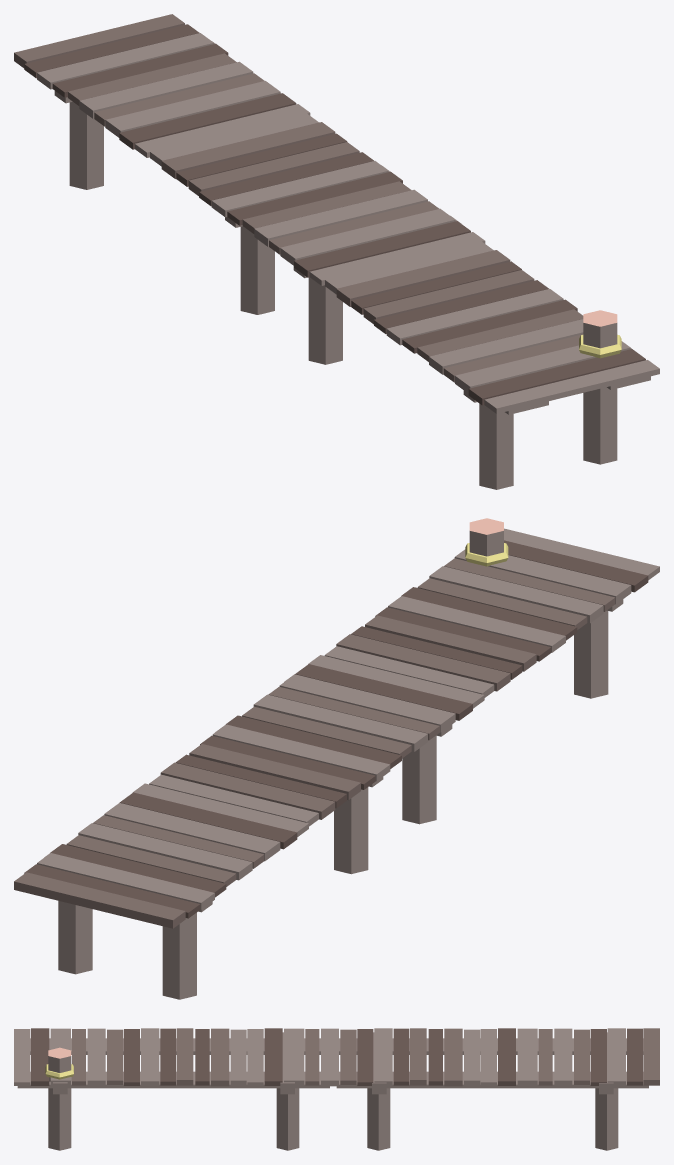
Rendered from bridge.glb.
The picture shows the model from 3 angles, top to bottom: view 1: azimuth 30°, elevation 25°; view 2: azimuth 150°, elevation 25°; view 3: azimuth 270°, elevation 25°; orthographic projection. The views are drawn at different scales.
Visible parts, largest first — view 1: land_79043, land_79030, land_79020, land_79004, land_79008; view 2: land_79030, land_79043, land_79020, land_79008, land_79004; view 3: land_79043, land_79030, land_79020, land_79004, land_79008, land_79007.
Part boxes in pixels (x1,y1,x2,y2): land_79043: (188, 142, 521, 314); land_79030: (14, 14, 347, 186); land_79020: (363, 270, 659, 413); land_79004: (293, 215, 650, 489); land_79008: (54, 41, 389, 314); land_79030: (14, 754, 346, 928); land_79043: (189, 626, 522, 800); land_79020: (365, 528, 659, 671); land_79008: (44, 725, 383, 999); land_79004: (284, 518, 623, 824); land_79043: (195, 1028, 426, 1086); land_79030: (428, 1028, 659, 1086); land_79020: (14, 1028, 193, 1086); land_79004: (17, 1032, 329, 1150); land_79008: (336, 1032, 648, 1150); land_79007: (45, 1064, 73, 1079).
Size of the model in its own units: 2.03 by 1.62 by 10.29.
Materials: 1 (1 with a texture image).
